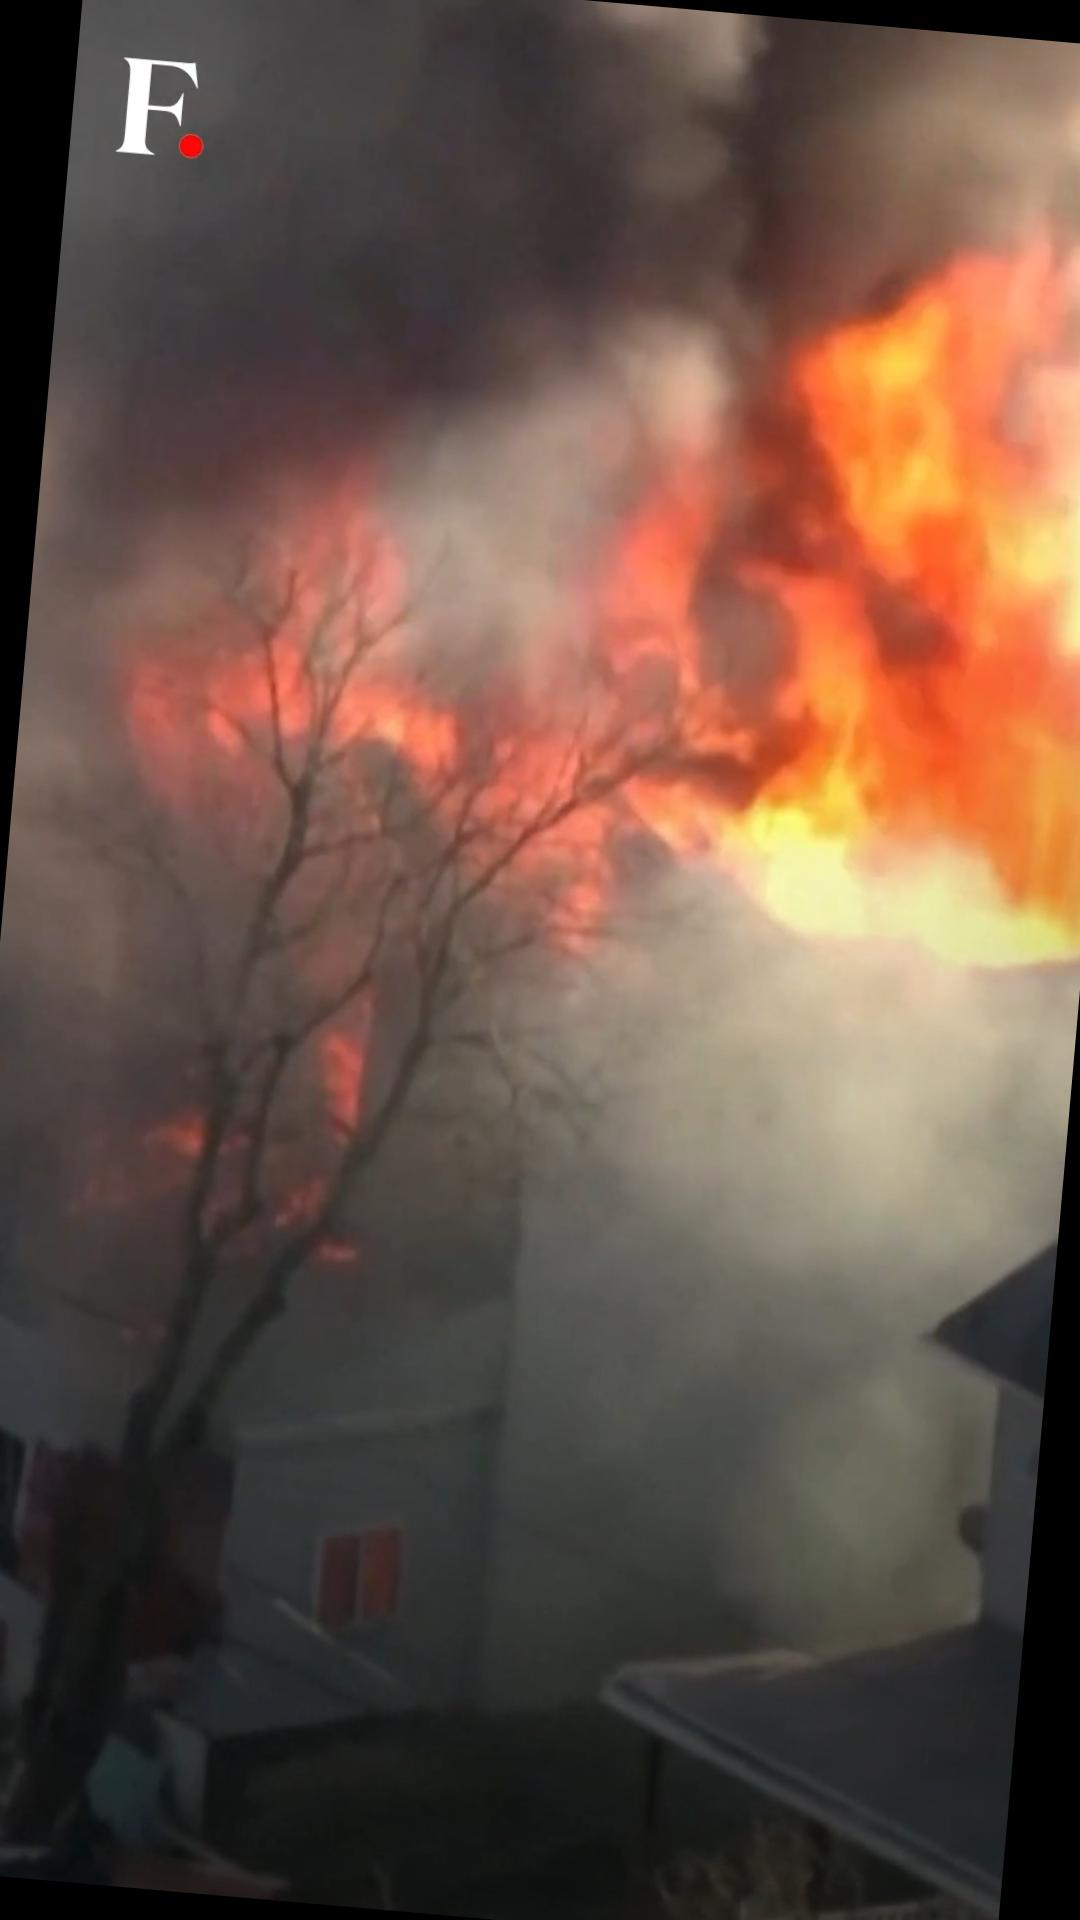Fire: (591, 237, 1080, 953)
Smoke: (520, 893, 1044, 1621), (160, 0, 644, 712), (199, 0, 1080, 303)
